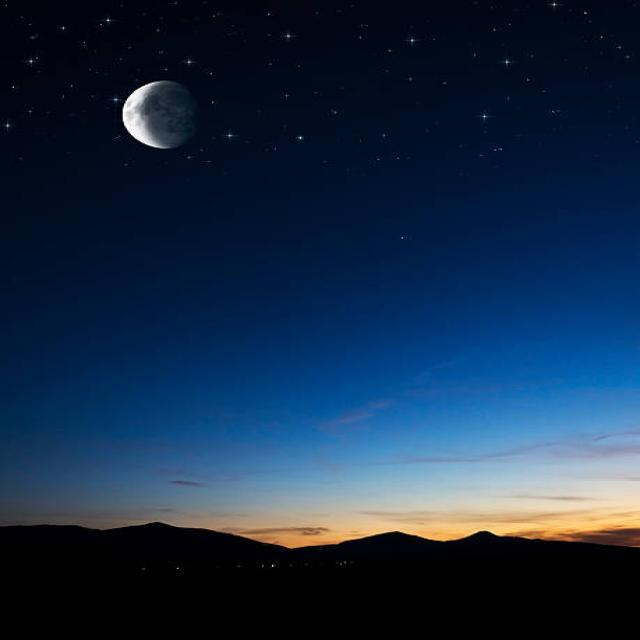moon: (103, 73, 216, 155)
